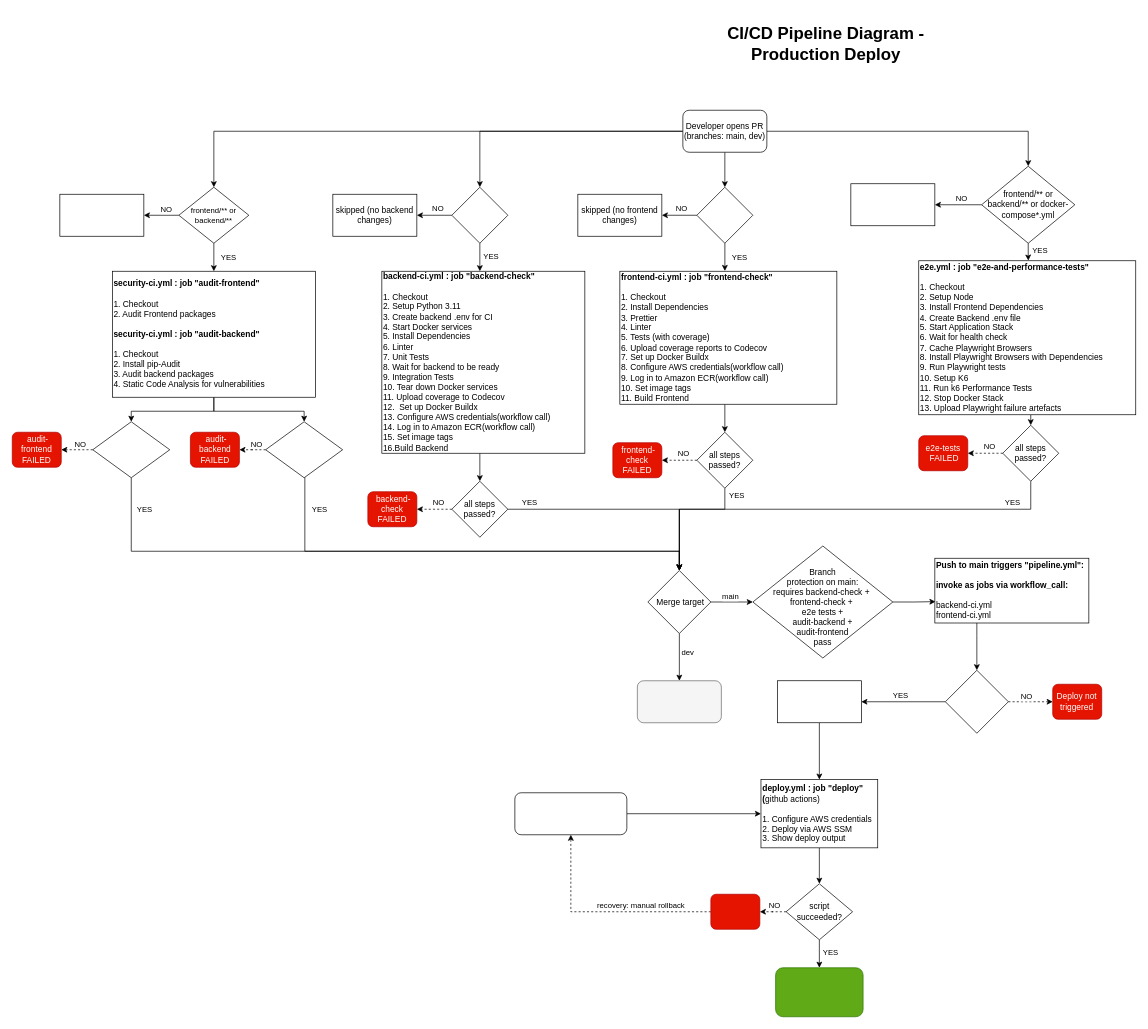
Some shapes in this 1148 by 1029 pixel diagram are drawn without their labels. The shapes that lost their labels are listed below. From the top down, each one's centre as x and y in pixels, then its label:
At point 101,215: "skipped (documentation change)".
At point 479,215: "backend/**".
At point 724,215: "frontend/**".
At point 892,204: "skipped (no relevant changes)".
At point 131,449: "audit-frontend passed?".
At point 304,449: "audit-backend passed?".
At point 679,701: "Merged to dev - CI passed".
At point 819,701: "triggers deploy".
At point 976,701: "success?".
At point 570,813: "workflow_dispatch (input: ref - commit SHA/tag, blank = latest main)".
At point 735,911: "Deploy FAILED".
At point 819,992: "Running in Production EC2 instance https://savannasentinel.co.za".
